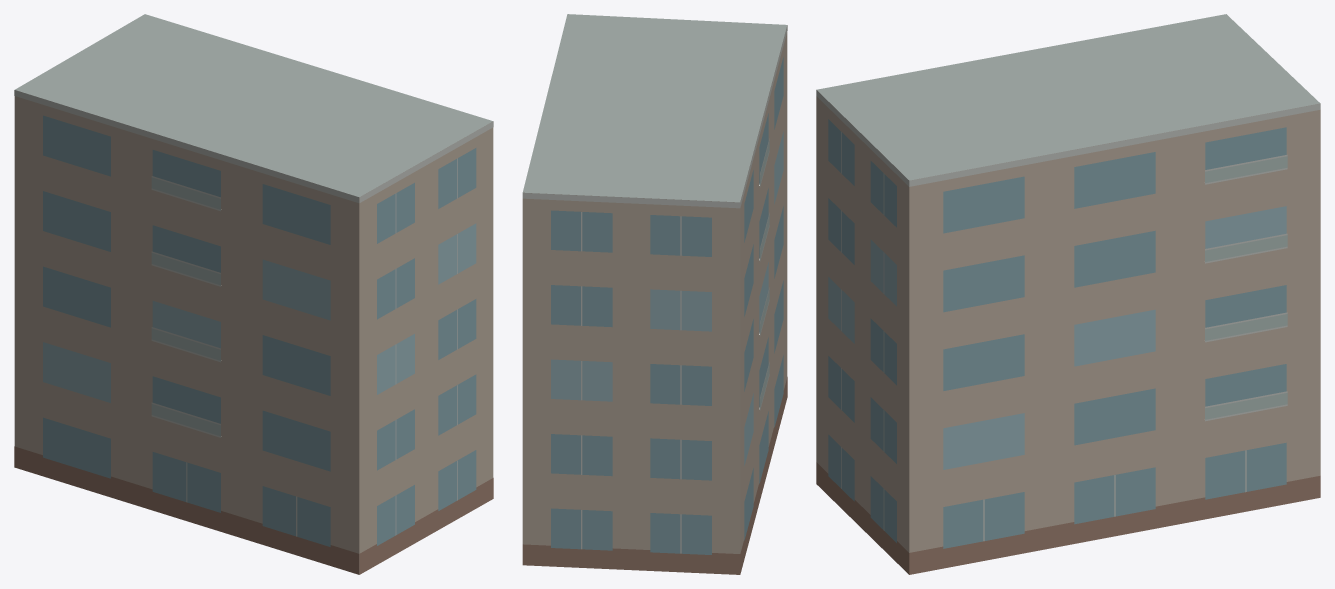
File: survey-upis-32880189.glb
The picture shows the model from 3 angles, left to right: view 1: azimuth 30°, elevation 25°; view 2: azimuth 150°, elevation 25°; view 3: azimuth 270°, elevation 25°; orthographic projection. The views are drawn at different scales.
Visible parts, largest first — view 1: survey-upis-32880189.tmp; view 2: survey-upis-32880189.tmp; view 3: survey-upis-32880189.tmp.
Boxes of the visible parts, x1,y1,x2,y2 form: survey-upis-32880189.tmp: (14,14,493,574); survey-upis-32880189.tmp: (522,14,787,574); survey-upis-32880189.tmp: (816,14,1320,574).
Bounding box in the file's own units: 13.83 × 15.25 × 17.68.
